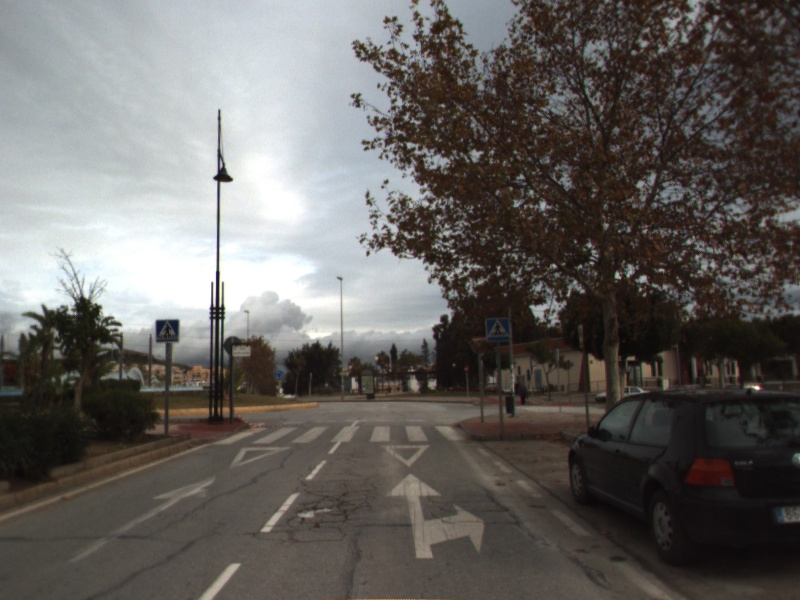STRAIGHT: (65, 472, 219, 565)
STRAIGHT_RIGHT: (382, 471, 487, 561)
